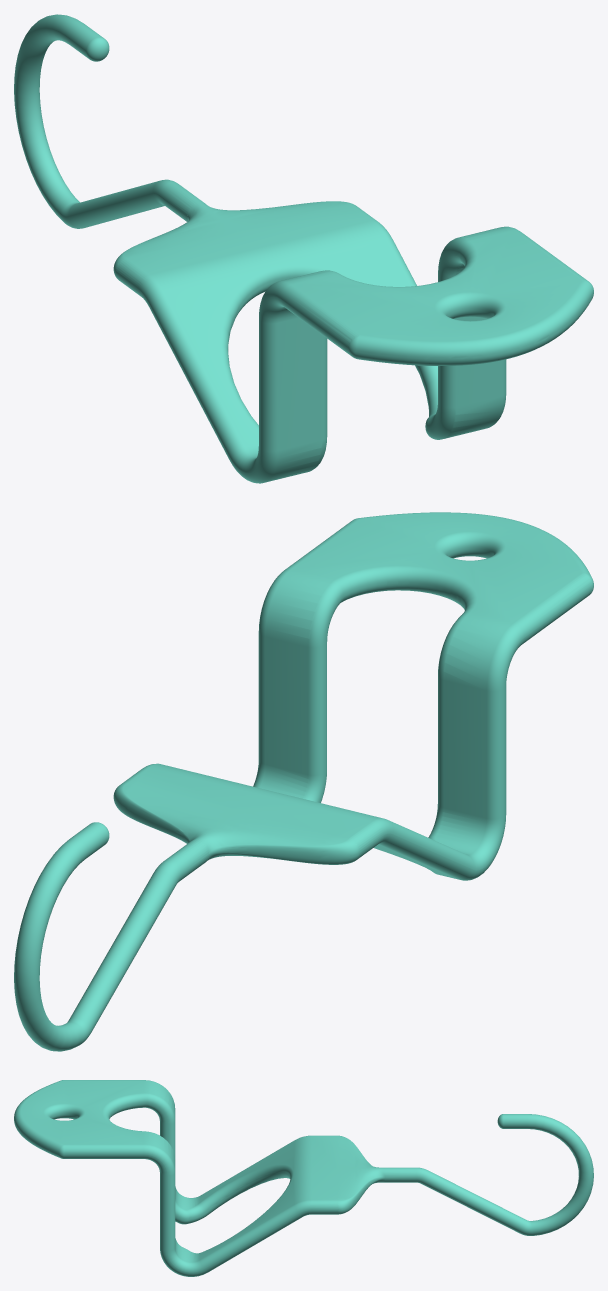
3 renders of one model, top to bottom at view 1: azimuth 30°, elevation 25°; view 2: azimuth 150°, elevation 25°; view 3: azimuth 270°, elevation 25°, orthographic. The views are drawn at different scales.
Visible parts, largest first — view 1: split_parent_0; view 2: split_parent_0; view 3: split_parent_0.
Part boxes in pixels (x1,y1,x2,y2): split_parent_0: (14, 14, 593, 483); split_parent_0: (14, 512, 593, 1051); split_parent_0: (14, 1080, 593, 1276).
Bounding box in the file's own units: 0.2858 × 0.2511 × 1.
